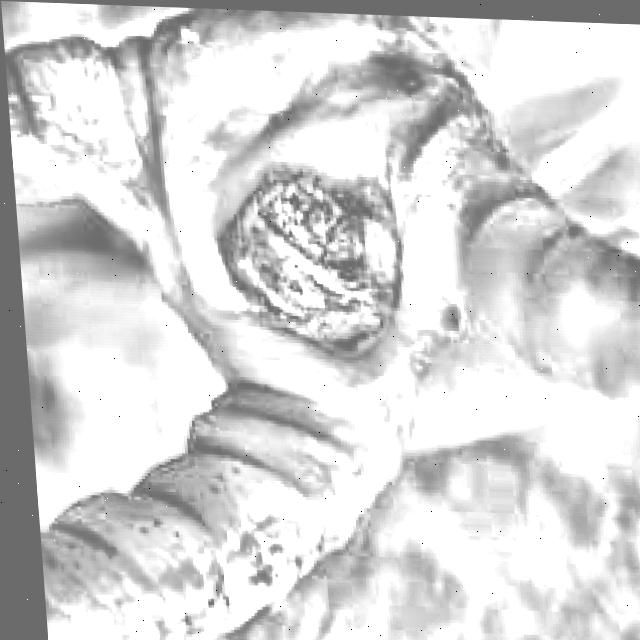Bumble foot: (179, 138, 419, 374)
